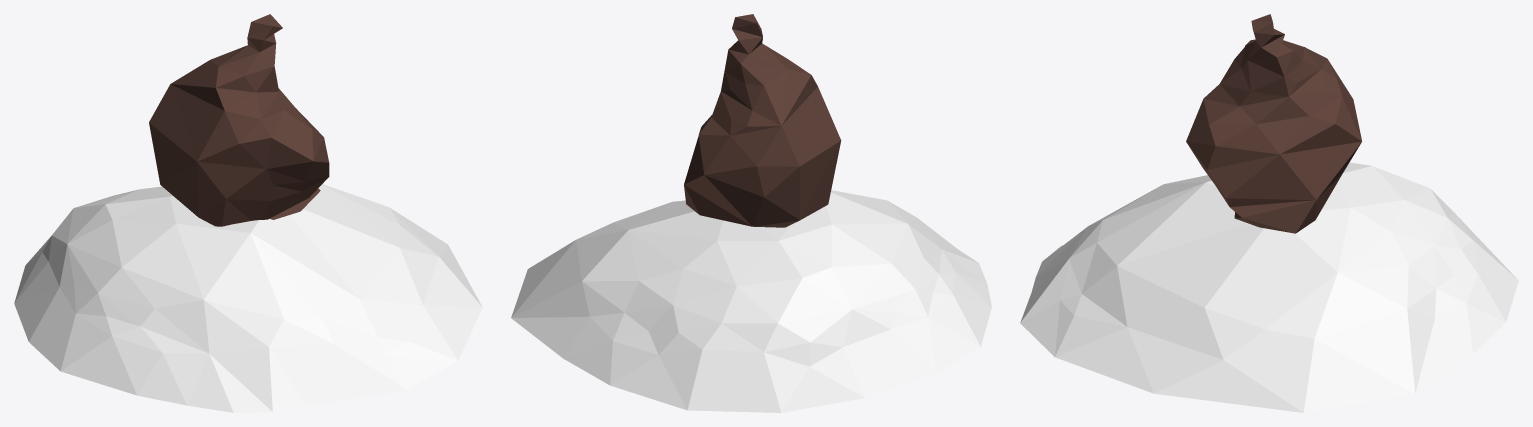
Rendered from snow_rock_002.fbx.
The picture shows the model from 3 angles, left to right: view 1: azimuth 30°, elevation 25°; view 2: azimuth 150°, elevation 25°; view 3: azimuth 270°, elevation 25°; orthographic projection. The views are drawn at different scales.
Parts seen in each view (by area): view 1: snow_rock_002; view 2: snow_rock_002; view 3: snow_rock_002.
Boxes of the visible parts, <box> form: snow_rock_002: <box>14,14,482,412</box>; snow_rock_002: <box>511,14,991,412</box>; snow_rock_002: <box>1020,14,1518,412</box>.
Size of the model in its own units: 1078 by 1082 by 706.
